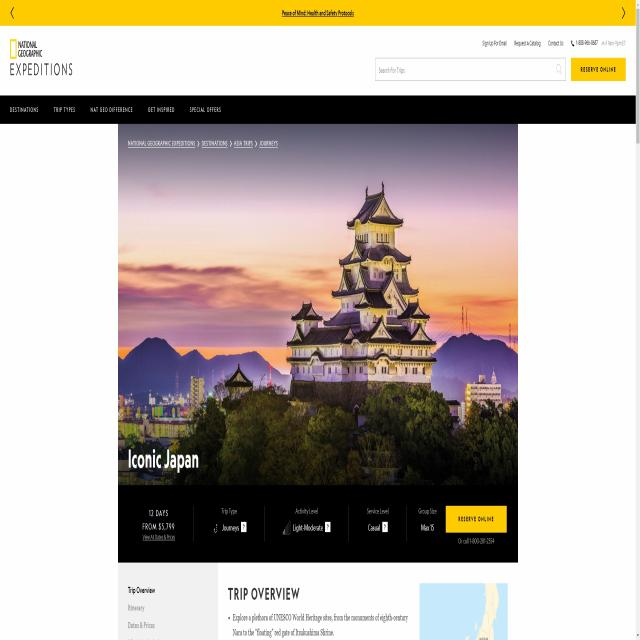search: (373, 54, 628, 84)
tab-bar: (6, 97, 228, 118)
